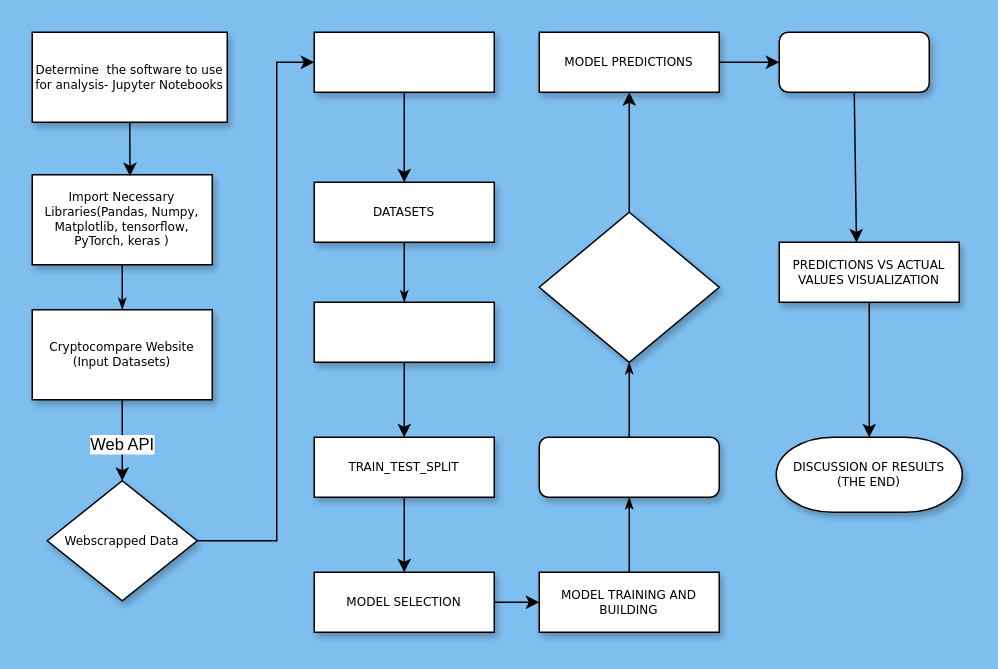
This 998x669 diagram has some shape labels left out. Each missing label, with the centre of its shape:
Data Cleaning and Preprocessing: point (405, 64)
FEATURE ENGINEERING: point (405, 334)
HYPEPARAMETER TUNING: point (630, 289)
MODEL EVALUATION: METRICS: point (630, 469)
PREDICTIONS VISUALIZATIONS: point (855, 64)
